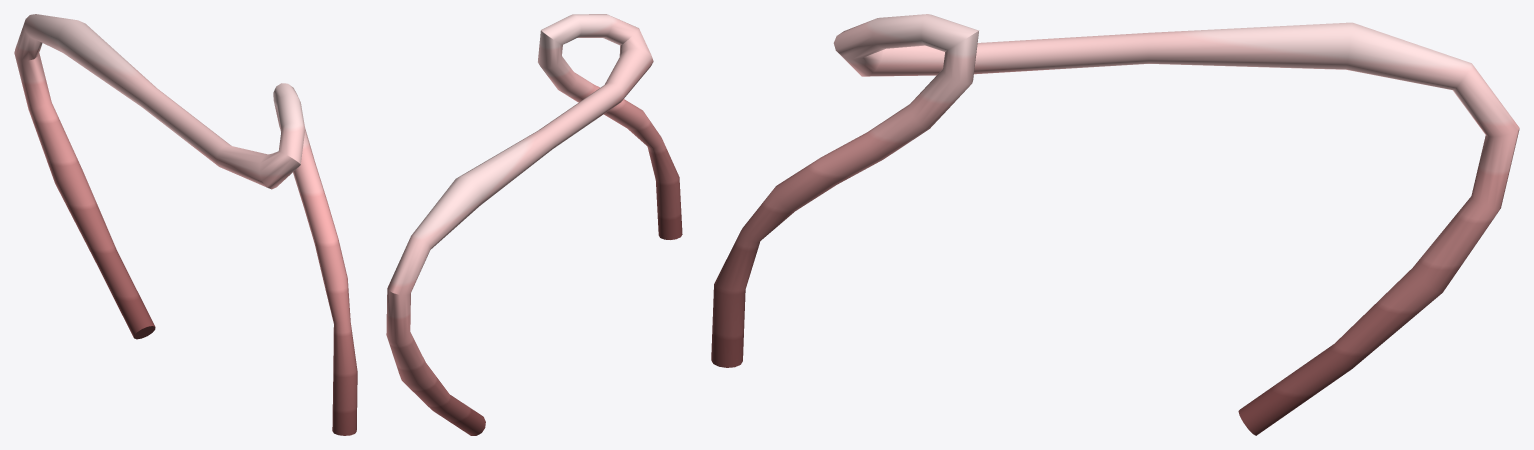
Rendered from plant_011.fbx.
3 views of the same model, side by side, from view 1: azimuth 30°, elevation 25°; view 2: azimuth 150°, elevation 25°; view 3: azimuth 270°, elevation 25° (orthographic). The views are drawn at different scales.
Parts seen in each view (by area): view 1: plant.011; view 2: plant.011; view 3: plant.011.
Part boxes in pixels (x1,y1,x2,y2): plant.011: (14, 14, 357, 435); plant.011: (386, 14, 682, 435); plant.011: (711, 14, 1519, 435).
Bounding box in the file's own units: 10.93 × 37.39 × 63.37.
